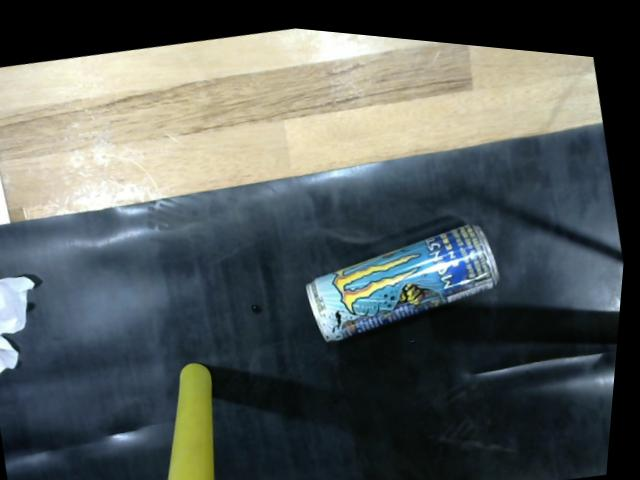can: (309, 209, 512, 348)
